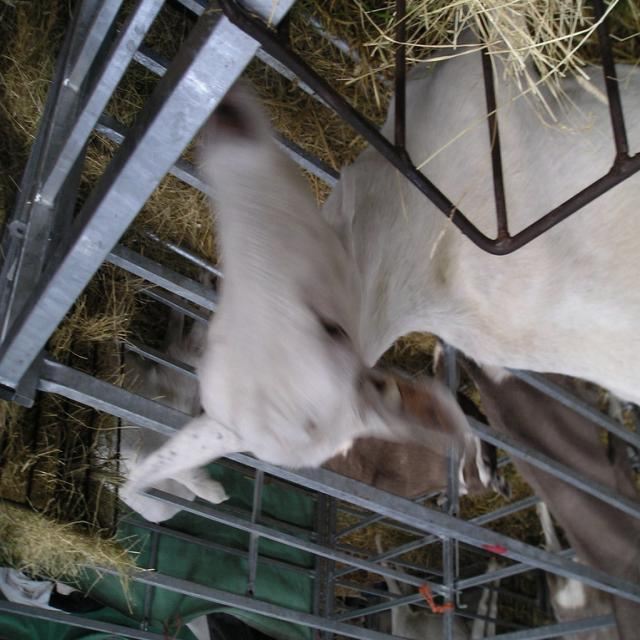Goat: (123, 20, 639, 508), (94, 276, 511, 522), (432, 341, 639, 640), (373, 533, 506, 640)
